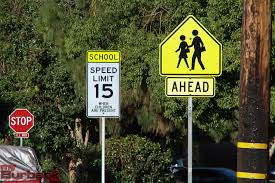pedestrianCrossing: (159, 14, 226, 78)
speedLimit15: (86, 61, 118, 102)
stop: (8, 109, 35, 133)
